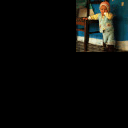baby: (81, 1, 116, 52)
